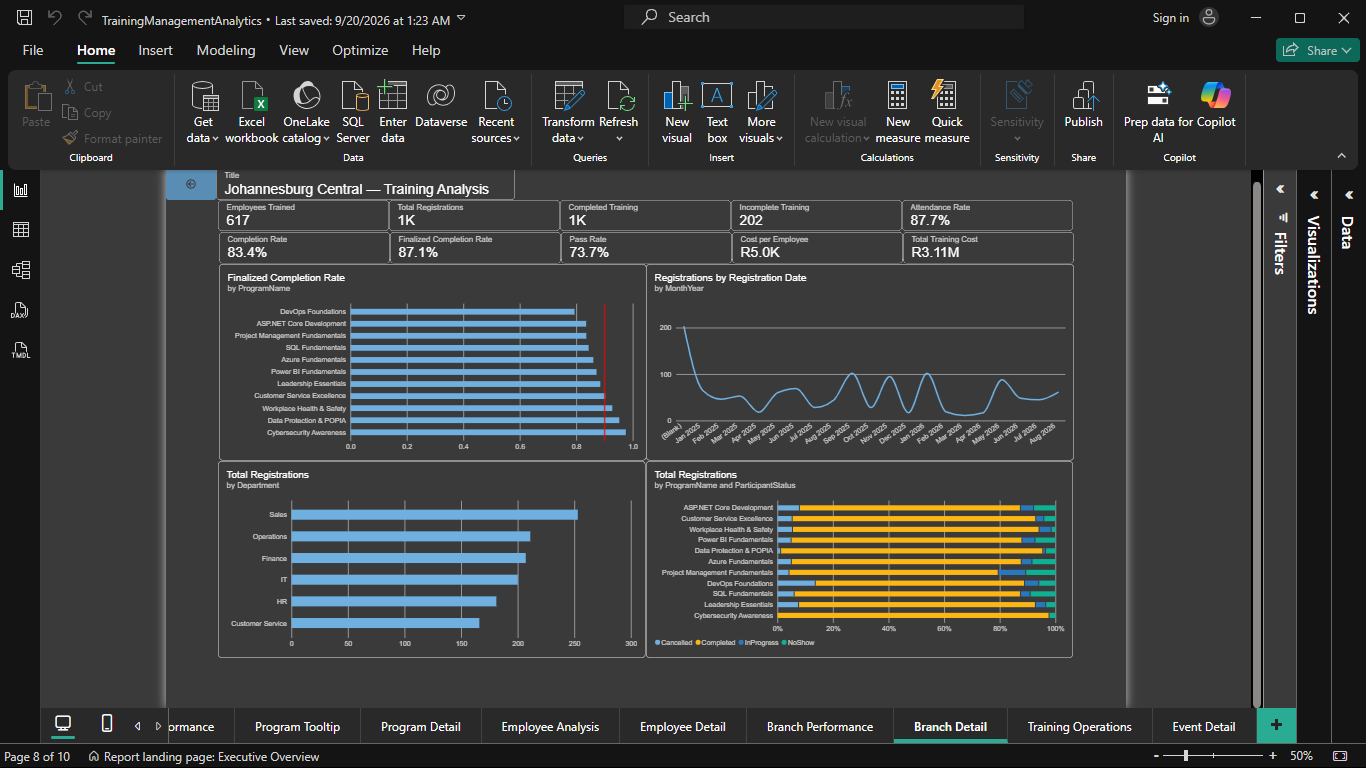

Layout of this report page (visuals, bound fields, positions):
{"tool":"powerbi","page":{"name":"Branch Detail","canvas":[1920,1080],"ordinal":7},"visuals":[{"type":"actionButton","box":[0,0,100,64],"z":0},{"type":"cardVisual","fields":{"Data":["FactTraining.Selected Branch"]},"box":[100,0,598,64],"z":1000},{"type":"cardVisual","fields":{"Data":["FactTraining.Employees Trained","FactTraining.Total Registrations","FactTraining.Completed Training","FactTraining.Incomplete Training","FactTraining.Attendance Rate"]},"box":[104.3,64.3,1710,62.9],"z":2000},{"type":"clusteredBarChart","fields":{"Category":["DimProgram.ProgramName"],"Y":["FactTraining.Finalized Completion Rate"]},"box":[105.8,191.7,854.7,393.5],"z":3000},{"type":"lineChart","fields":{"Category":["DimDate.MonthYear"],"Y":["FactTraining.Registrations by Registration Date"]},"box":[959.2,191.7,856,393.3],"z":4000},{"type":"clusteredBarChart","fields":{"Category":["DimEmployee.Department"],"Y":["FactTraining.Total Registrations"]},"box":[104.2,585.8,855,394],"z":5000},{"type":"cardVisual","fields":{"Data":["FactTraining.Completion Rate","FactTraining.Finalized Completion Rate","FactTraining.Pass Rate","FactTraining.Cost per Employee","FactTraining.Total Training Cost"]},"box":[105,128.3,1710,63.3],"z":6000},{"type":"hundredPercentStackedBarChart","fields":{"Category":["DimProgram.ProgramName"],"Series":["FactTraining.ParticipantStatus"],"Y":["FactTraining.Total Registrations"]},"box":[960,586,854,394],"z":7000}]}

Visuals, with their boxes on the page's 1920x1080 design canvas (x1, y1, x2, y2). These are canvas units, not pixel positions in the 1366x768 screenshot, which may show the page scaled, cropped or inside an application window:
actionButton: (left=0, top=0, right=100, bottom=64)
cardVisual - FactTraining.Selected Branch: (left=100, top=0, right=698, bottom=64)
cardVisual - FactTraining.Employees Trained x FactTraining.Total Registrations: (left=104, top=64, right=1814, bottom=127)
clusteredBarChart - DimProgram.ProgramName x FactTraining.Finalized Completion Rate: (left=106, top=192, right=960, bottom=585)
lineChart - DimDate.MonthYear x FactTraining.Registrations by Registration Date: (left=959, top=192, right=1815, bottom=585)
clusteredBarChart - DimEmployee.Department x FactTraining.Total Registrations: (left=104, top=586, right=959, bottom=980)
cardVisual - FactTraining.Completion Rate x FactTraining.Finalized Completion Rate: (left=105, top=128, right=1815, bottom=192)
hundredPercentStackedBarChart - DimProgram.ProgramName x FactTraining.ParticipantStatus: (left=960, top=586, right=1814, bottom=980)
